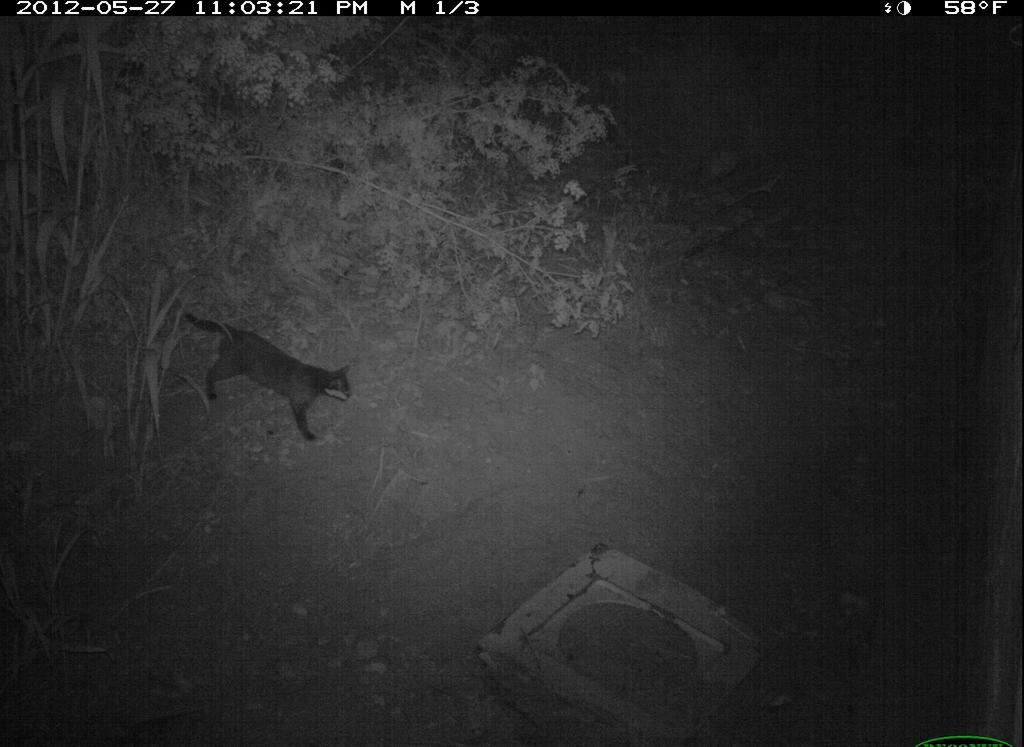cat: (175, 295, 363, 449)
